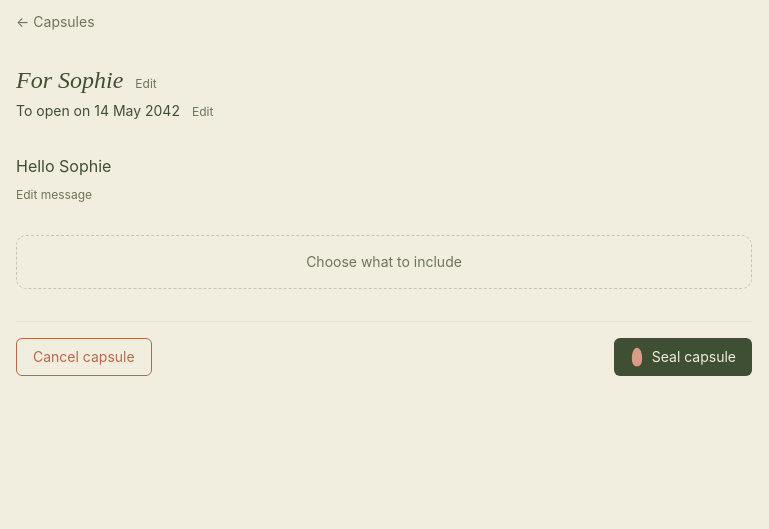
Test: CapsuleDetailPage — inline edit message › enters edit mode when "Edit message" is clicked
Expected: the text "Hello Sophie" is shown, [16,156,111,176]
Click the button "Edit message": (54,195) [16,187,92,203]
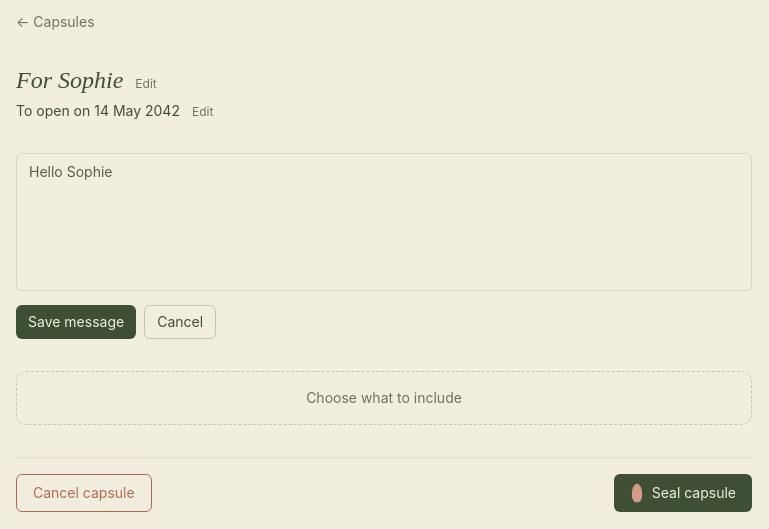
Now the text box is shown, box [16,153,752,291]
Now the button "Save message" is shown, box [16,305,136,339]
